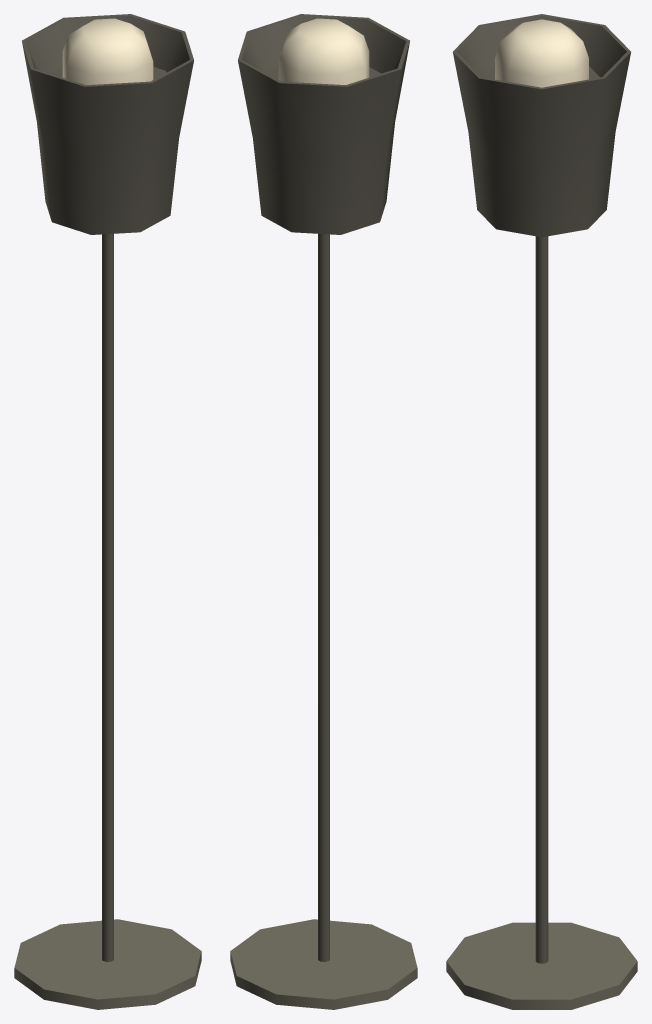
The model's file is floor_lamp.glb.
3 renders of one model, left to right at view 1: azimuth 30°, elevation 25°; view 2: azimuth 150°, elevation 25°; view 3: azimuth 270°, elevation 25°, orthographic.
Parts seen in each view (by area): view 1: prop_floor_lamp; view 2: prop_floor_lamp; view 3: prop_floor_lamp.
Boxes of the visible parts, bbox=[...] form: prop_floor_lamp: bbox=[14, 14, 201, 1009]; prop_floor_lamp: bbox=[230, 14, 417, 1009]; prop_floor_lamp: bbox=[446, 14, 637, 1009].
Bounding box in the file's own units: 0.2978 × 1.7 × 0.3132.
